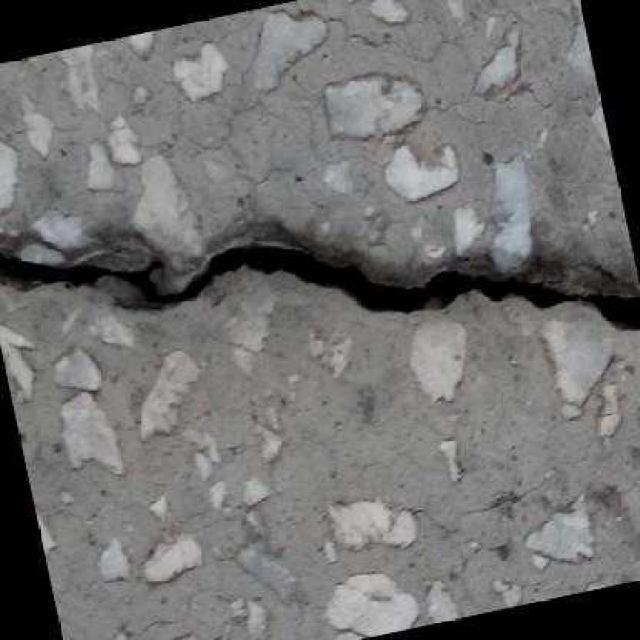D00: (0, 244, 640, 330)
